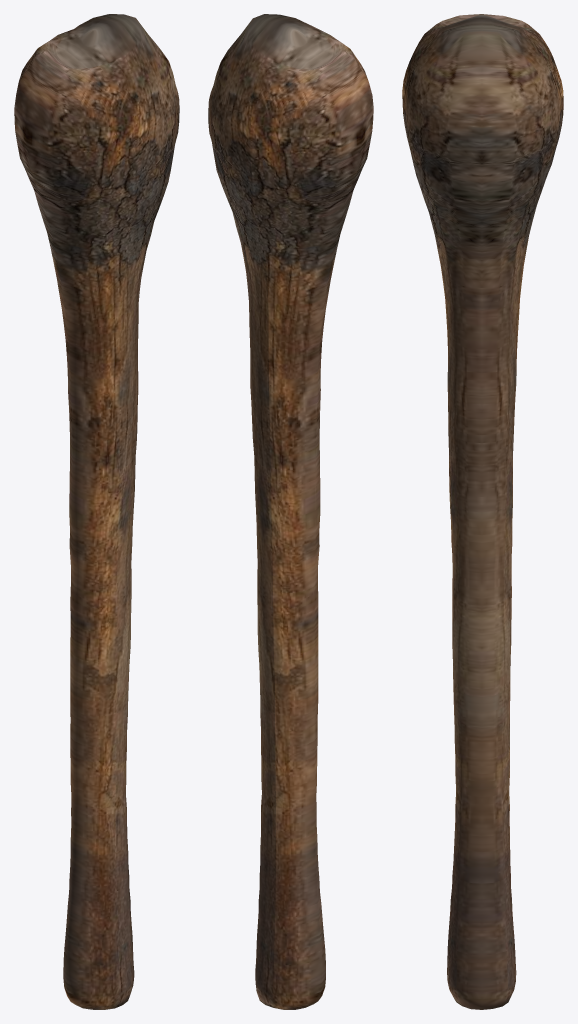
Rendered from club_oak_p1_w1.glb.
The picture shows the model from 3 angles, left to right: view 1: azimuth 30°, elevation 25°; view 2: azimuth 150°, elevation 25°; view 3: azimuth 270°, elevation 25°; orthographic projection.
Visible parts, largest first — view 1: club_oak_p1_w1; view 2: club_oak_p1_w1; view 3: club_oak_p1_w1.
Part boxes in pixels (x1,y1,x2,y2): club_oak_p1_w1: (14,14,179,1009); club_oak_p1_w1: (208,14,373,1009); club_oak_p1_w1: (402,14,563,1009).
Bounding box in the file's own units: 0.1328 × 0.8572 × 0.1262.
1 material, 1 textured.
